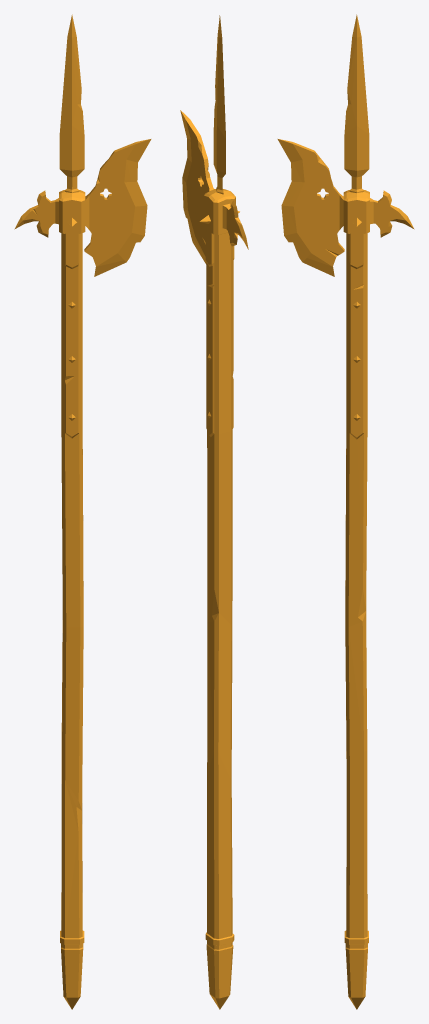
The model's file is SM_Halberd_Fantasy.fbx.
The picture shows the model from 3 angles, left to right: view 1: azimuth 90°, elevation 25°; view 2: azimuth 210°, elevation 25°; view 3: azimuth 270°, elevation 25°; orthographic projection.
Visible parts, largest first — view 1: halberd-fantasy; view 2: halberd-fantasy; view 3: halberd-fantasy.
Boxes of the visible parts, left/top/right/bottom form: halberd-fantasy: left=14, top=14, right=151, bottom=1009; halberd-fantasy: left=180, top=15, right=248, bottom=1009; halberd-fantasy: left=277, top=14, right=414, bottom=1009.
Size of the model in its own units: 0.097 by 2.23 by 0.2794.
